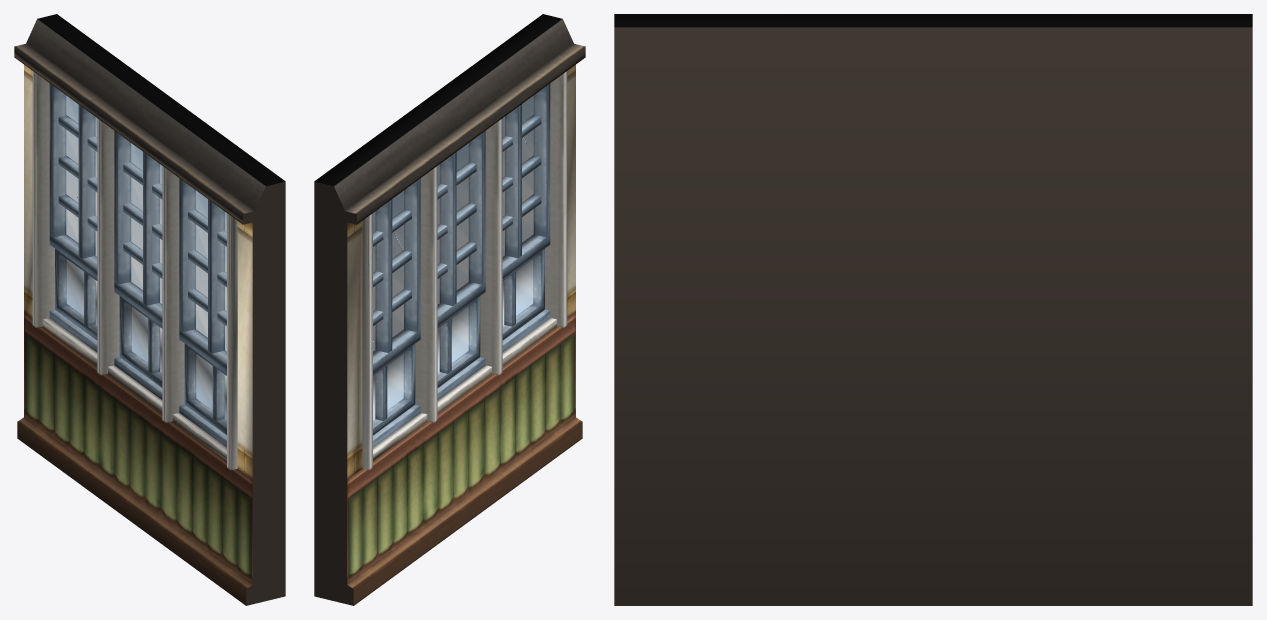
Rendered from a_SWIwall02_06.glb.
The picture shows the model from 3 angles, left to right: view 1: azimuth 30°, elevation 25°; view 2: azimuth 150°, elevation 25°; view 3: azimuth 270°, elevation 25°; orthographic projection. The views are drawn at different scales.
Visible parts, largest first — view 1: a_SWIwall02_06; view 2: a_SWIwall02_06; view 3: a_SWIwall02_06.
Boxes of the visible parts, x1,y1,x2,y2 form: a_SWIwall02_06: (14, 14, 285, 605); a_SWIwall02_06: (314, 14, 585, 605); a_SWIwall02_06: (614, 14, 1252, 605).
Bounding box in the file's own units: 0.324 × 3 × 3.
Materials: 2 (2 with a texture image).
